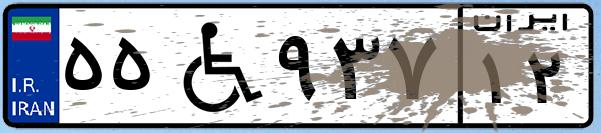1: (475, 38, 525, 113)
2: (525, 38, 570, 115)
3: (330, 28, 385, 110)
5: (57, 26, 110, 100), (110, 28, 158, 98)
7: (385, 28, 445, 110)
9: (270, 28, 330, 110)
ژ (معلولین و جانبازان): (158, 12, 270, 120)
